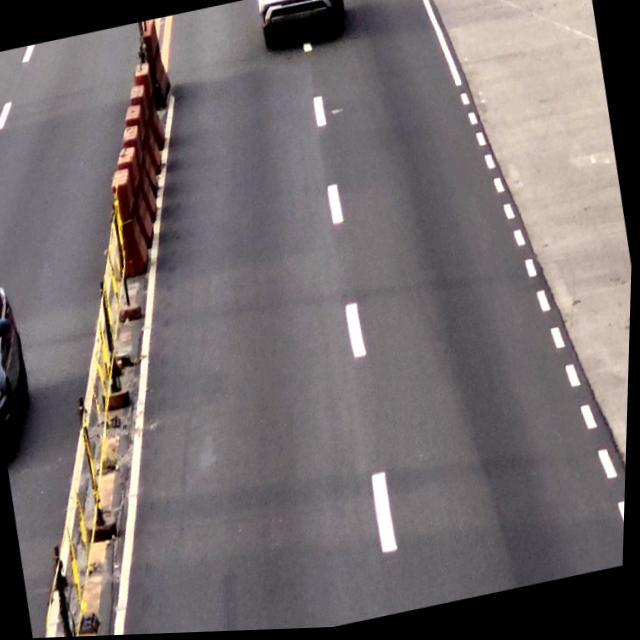Car: (254, 0, 349, 47)
